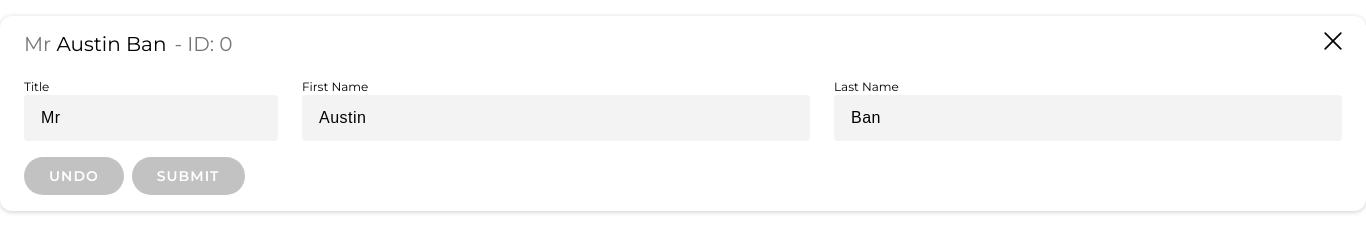
Active person - modify name field
The image size is (1366, 231).
expect the element showing "Mr Austin Ban - ID: 0" is shown: met, box [24, 32, 233, 56]
Type "Blah" into the field below "First Name" at (556, 118), box [302, 95, 810, 141]
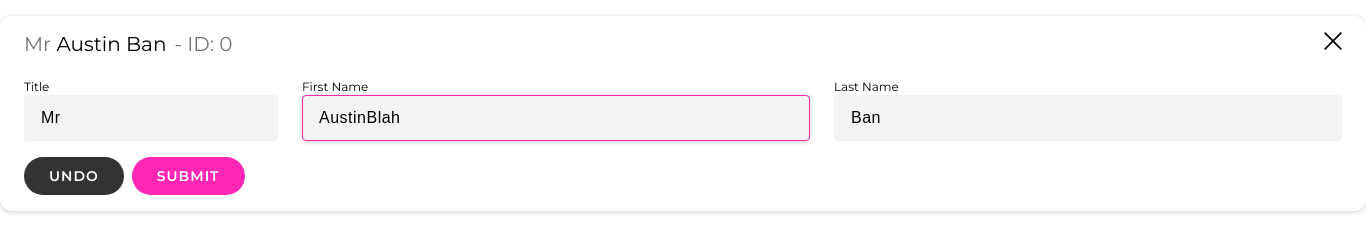
expect the field below "First Name" holds "AustinBlah": met, box [302, 95, 810, 141]
